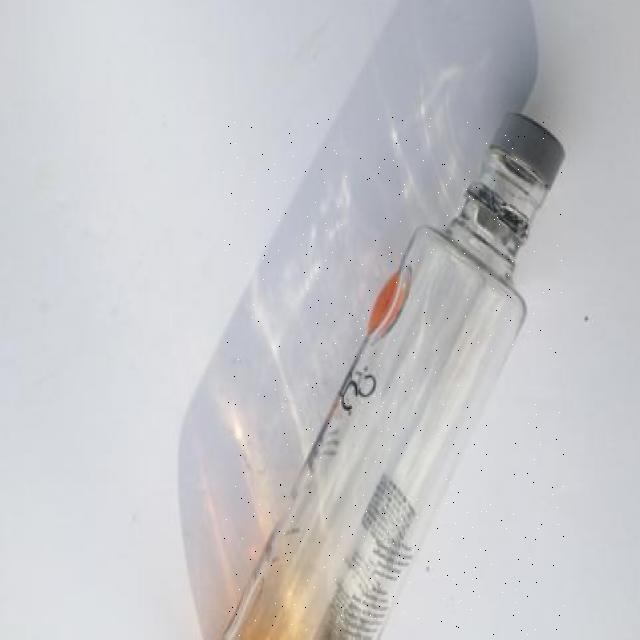glass: (224, 115, 564, 639)
